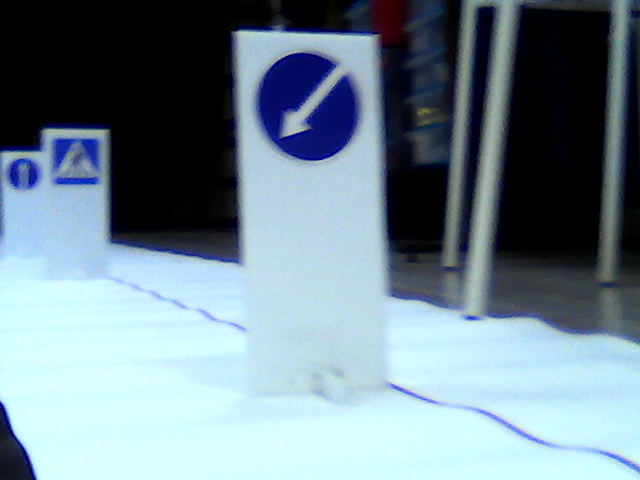forw: (9, 158, 40, 191)
pesh: (53, 138, 103, 182)
prep: (256, 52, 357, 159)
